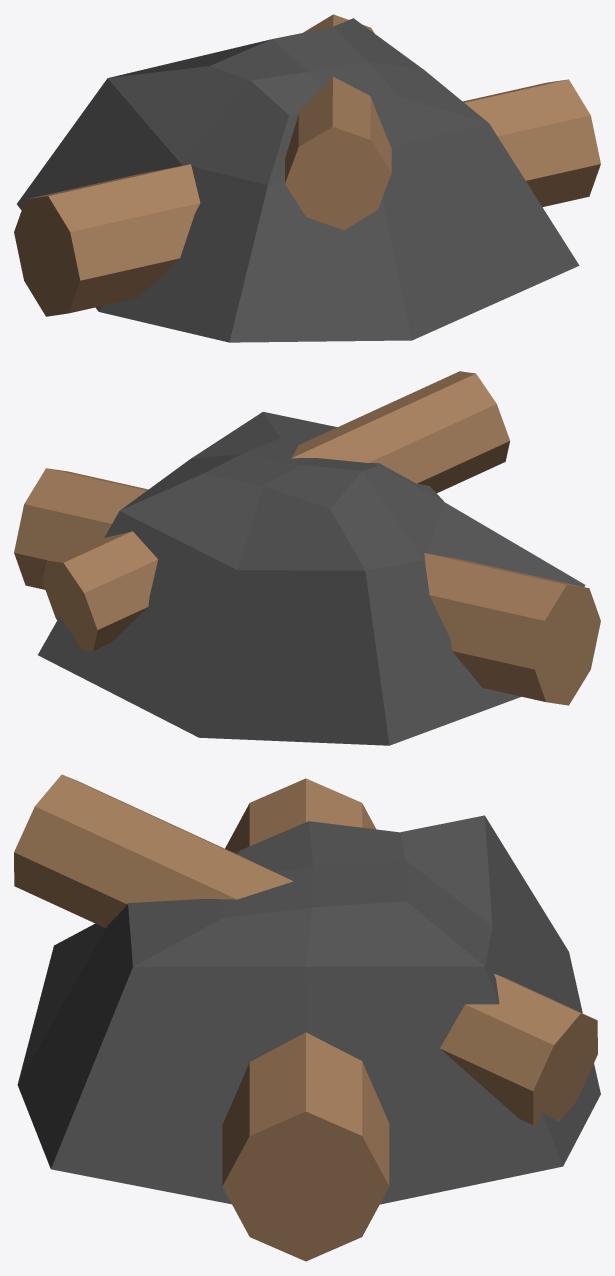
Rendered from campfire.glb.
3 views of the same model, one above another, from view 1: azimuth 30°, elevation 25°; view 2: azimuth 150°, elevation 25°; view 3: azimuth 270°, elevation 25° (orthographic). The views are drawn at different scales.
Parts seen in each view (by area): view 1: Cube; view 2: Cube; view 3: Cube.
Boxes of the visible parts, x1,y1,x2,y2 form: Cube: (14, 14, 600, 342); Cube: (14, 371, 600, 745); Cube: (14, 774, 600, 1261).
Bounding box in the file's own units: 4.25 × 1.75 × 3.28.
